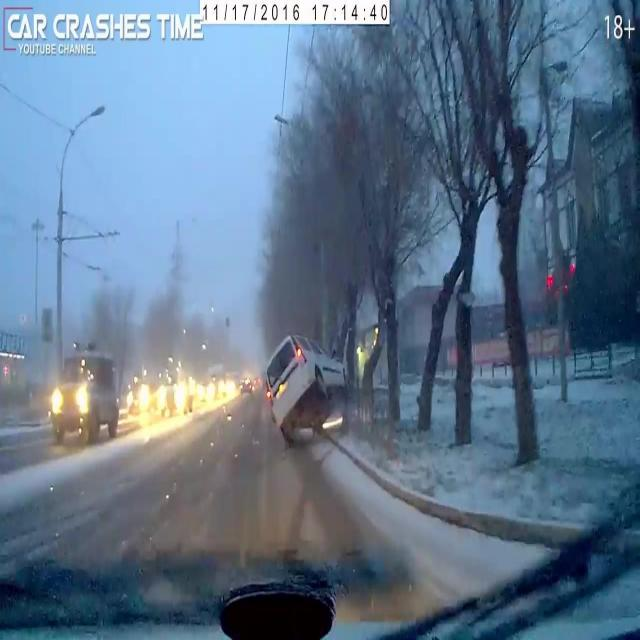accident: (260, 324, 356, 444)
